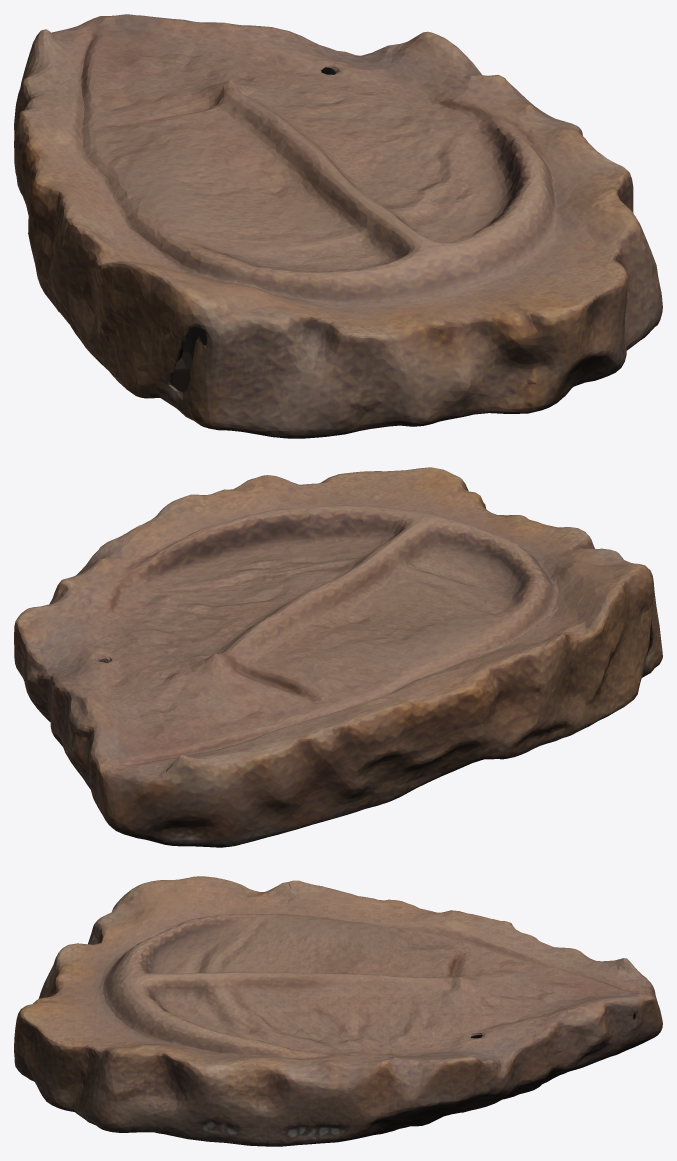
3 views of the same model, one above another, from view 1: azimuth 30°, elevation 25°; view 2: azimuth 150°, elevation 25°; view 3: azimuth 270°, elevation 25° (orthographic). The views are drawn at different scales.
Visible parts, largest first — view 1: world; view 2: world; view 3: world.
Part boxes in pixels (<box>): world: <box>14,14,662,438</box>; world: <box>14,467,662,847</box>; world: <box>14,876,662,1146</box>.
Bounding box in the file's own units: 0.6836 × 0.1583 × 0.9948.
1 material, 1 textured.
